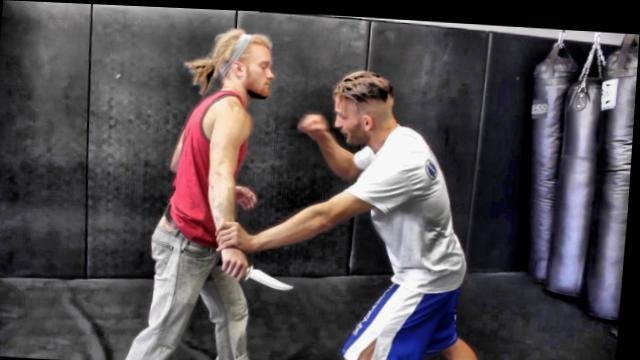knife: (213, 250, 305, 295)
